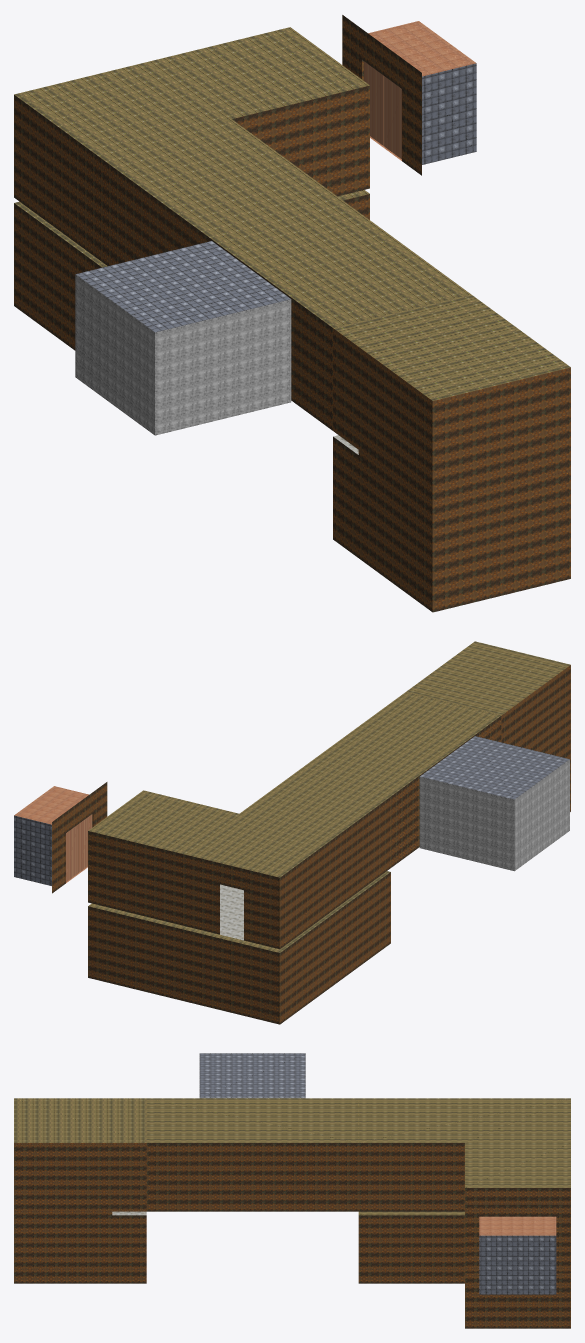
The model's file is LabirintEditor.fbx.
The picture shows the model from 3 angles, top to bottom: view 1: azimuth 30°, elevation 25°; view 2: azimuth 150°, elevation 25°; view 3: azimuth 270°, elevation 25°; orthographic projection. The views are drawn at different scales.
Visible parts, largest first — view 1: Wals.6, Up, Wals, Wals.5, Up.3, Up.7, Up.6, Wals.3, Wals.4, Lift, Lipht, Wals.2 (+3 smaller); view 2: Up, Wals.3, Wals, Wals.5, Up.3, DopWall2.2, Up.7, DopWall2, Up.6, Wals.6, Wals.4, Lift (+7 smaller); view 3: Wals.6, Up, Wals.2, Up.3, Wals, Wals.3, Wals.4, Up.7, Up.6, Lift, DpWal.2, Lipht (+3 smaller).
Part boxes in pixels (x1,y1,x2,y2): Wals.6: (333,328,570,612); Up: (14,27,369,211); Wals: (14,85,369,265); Wals.5: (75,274,291,435); Up.3: (174,177,470,327); Up.7: (333,294,570,400); Up.6: (75,241,290,332); Wals.3: (14,194,369,350); Wals.4: (173,212,332,430); Lift: (422,63,476,164); Lipht: (342,15,421,175); Wals.2: (173,213,332,428); Up: (88,773,390,877); Wals.3: (88,872,390,1024); Wals: (88,797,390,948); Wals.5: (419,759,569,871); Up.3: (295,692,501,796); DopWall2.2: (184,929,279,1024); Up.7: (406,641,570,715); DopWall2: (184,854,279,949); Up.6: (420,736,569,799); Wals.6: (501,665,570,811); Wals.4: (391,716,501,867); Lift: (14,815,51,885); Wals.6: (14,1143,146,1283); Up: (358,1098,570,1187); Wals.2: (146,1143,358,1211); Up.3: (146,1098,358,1142); Wals: (358,1143,464,1211); Wals.3: (358,1215,464,1283); Wals.4: (146,1143,358,1211); Up.7: (14,1098,146,1142); Up.6: (199,1053,305,1097); Lift: (479,1235,556,1294); DpWal.2: (465,1273,570,1328); Lipht: (465,1204,570,1273).
Bounding box in the file's own units: 1540 × 585 × 2100.
